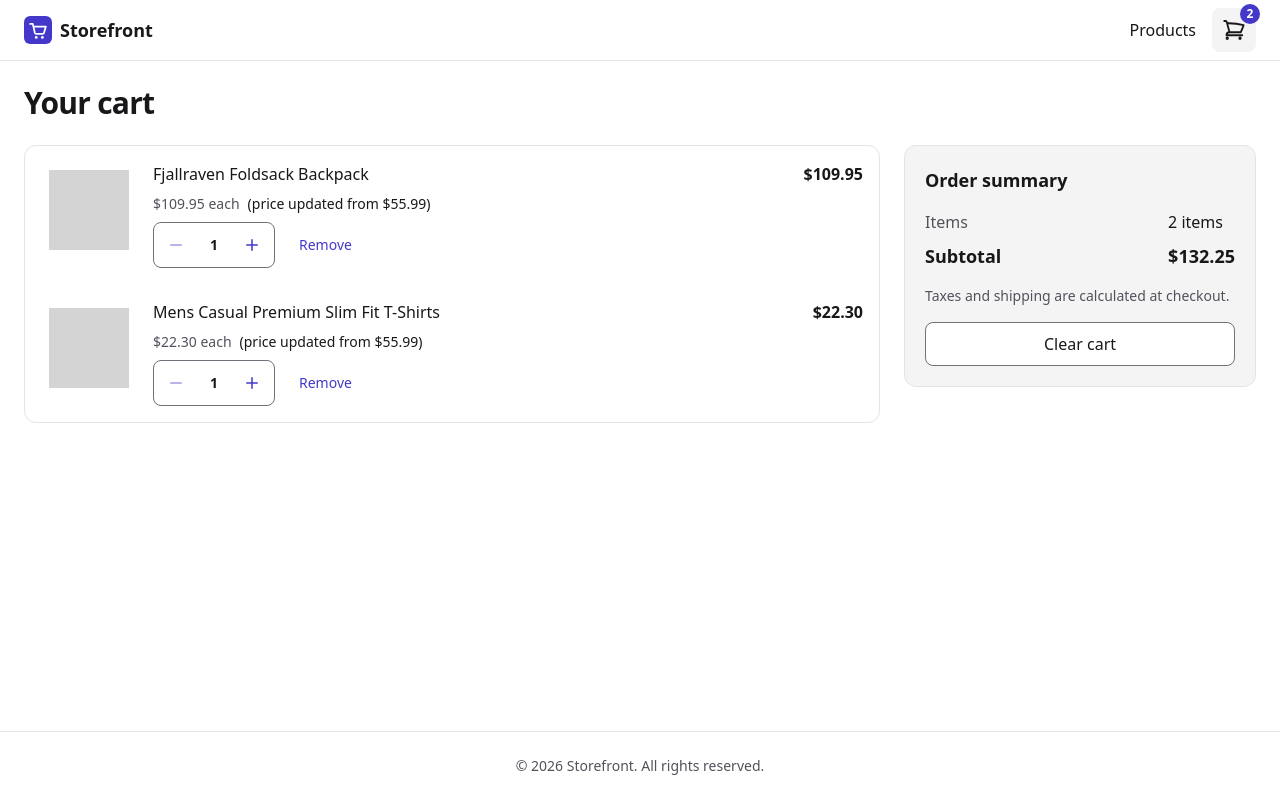
Scenario: Cart page › clears the cart only after confirmation
The width and height of the screenshot is (1280, 800).
Expected: the heading "Your cart" is shown, [24,82,154,123]
Step 1. Click the button "Clear cart" → point(1080, 344), box [925,322,1235,366]
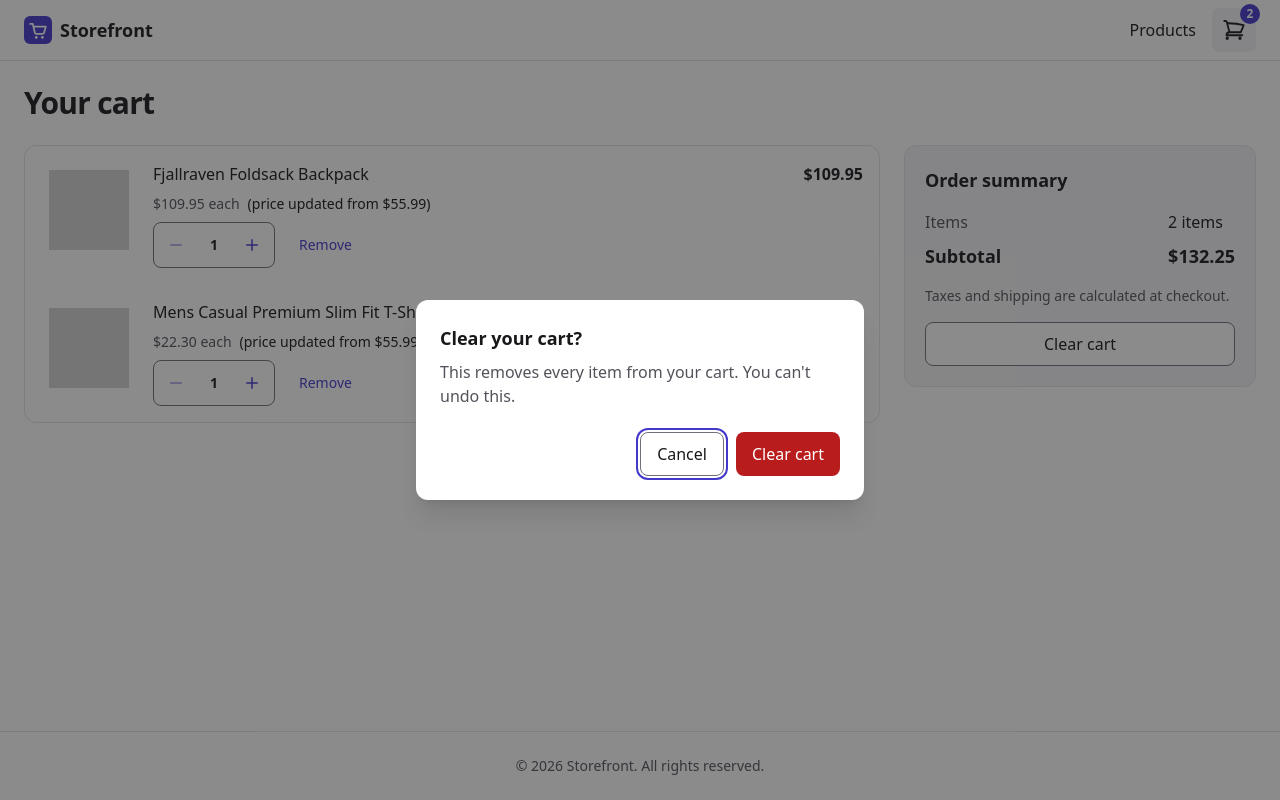
Step 2. Click the button "Cancel" → point(682, 454), box [640,432,724,476]
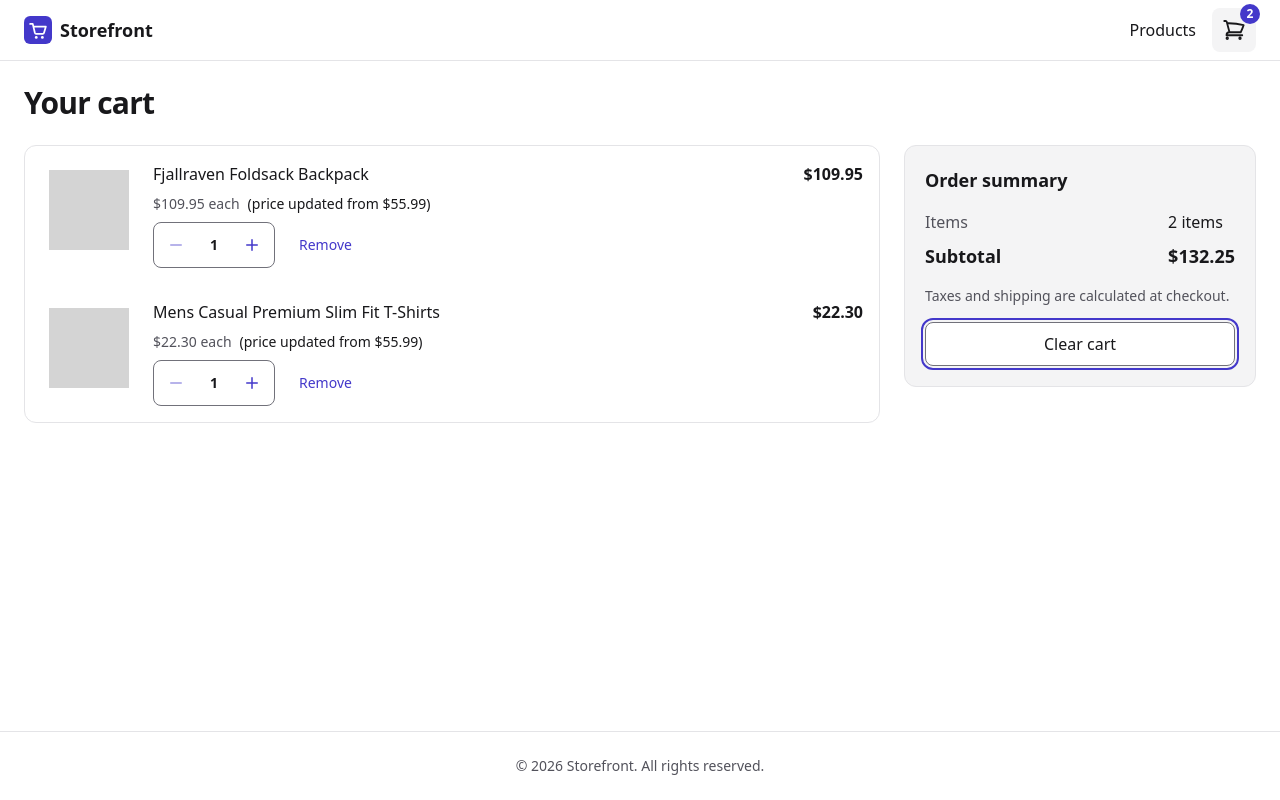
Now the number of buttons "Remove " is 2, box [287,223,364,267]; [287,361,364,405]
Step 3. Click the button "Clear cart" → point(1080, 344), box [925,322,1235,366]
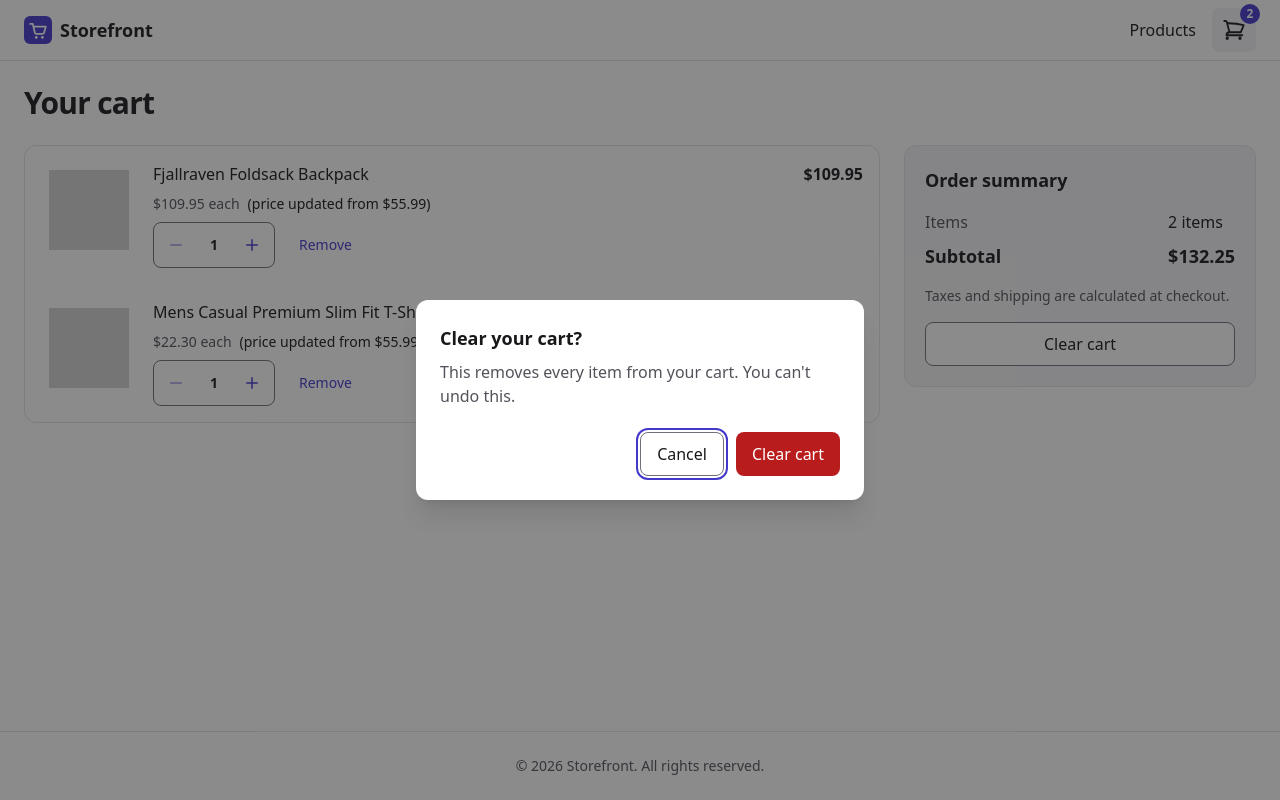
Step 4. Click the button "Clear cart" below "Clear your cart?" → point(788, 454), box [736,432,840,476]
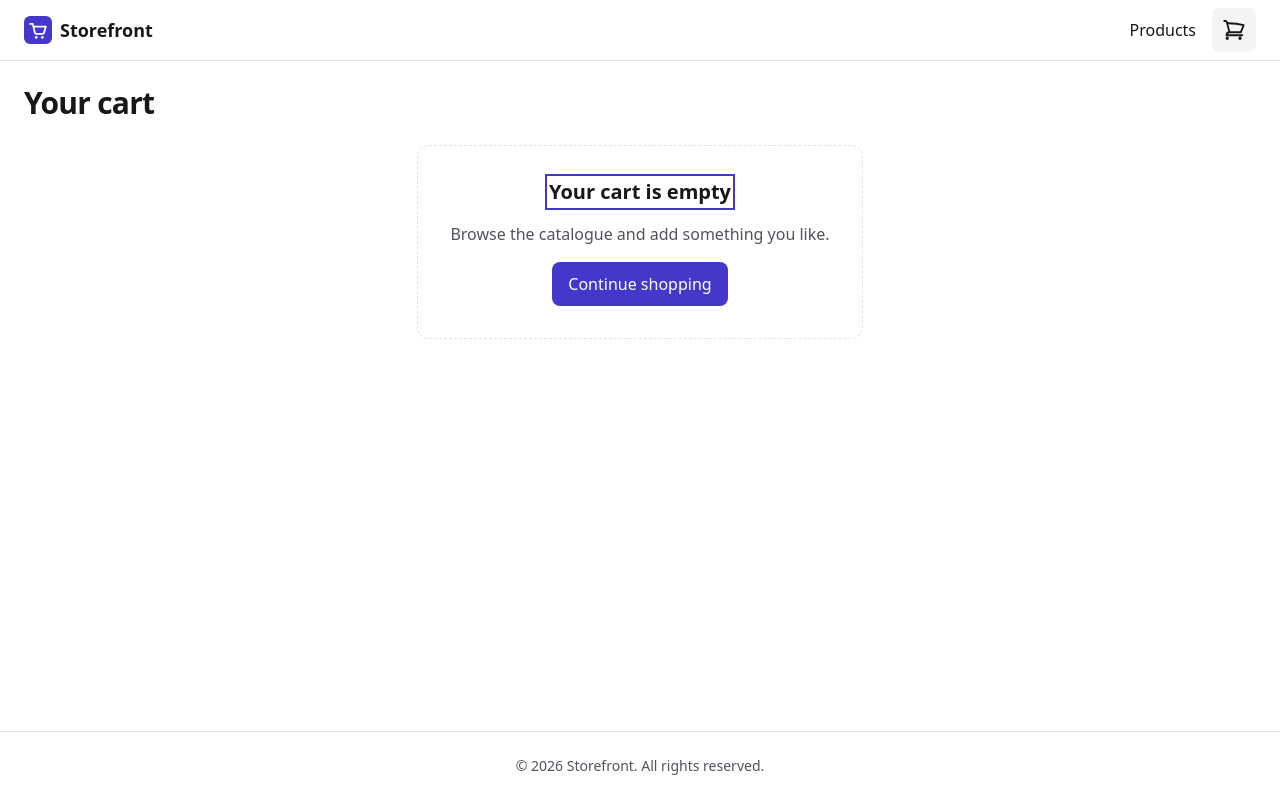
Now the heading "Your cart is empty" is shown, box [549,178,731,206]
